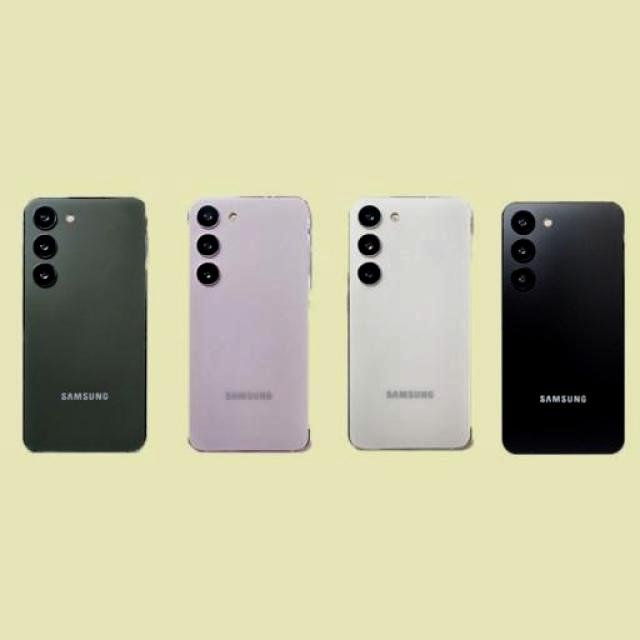phone: (349, 193, 478, 457), (498, 200, 626, 462), (23, 194, 148, 458), (187, 193, 307, 458)
